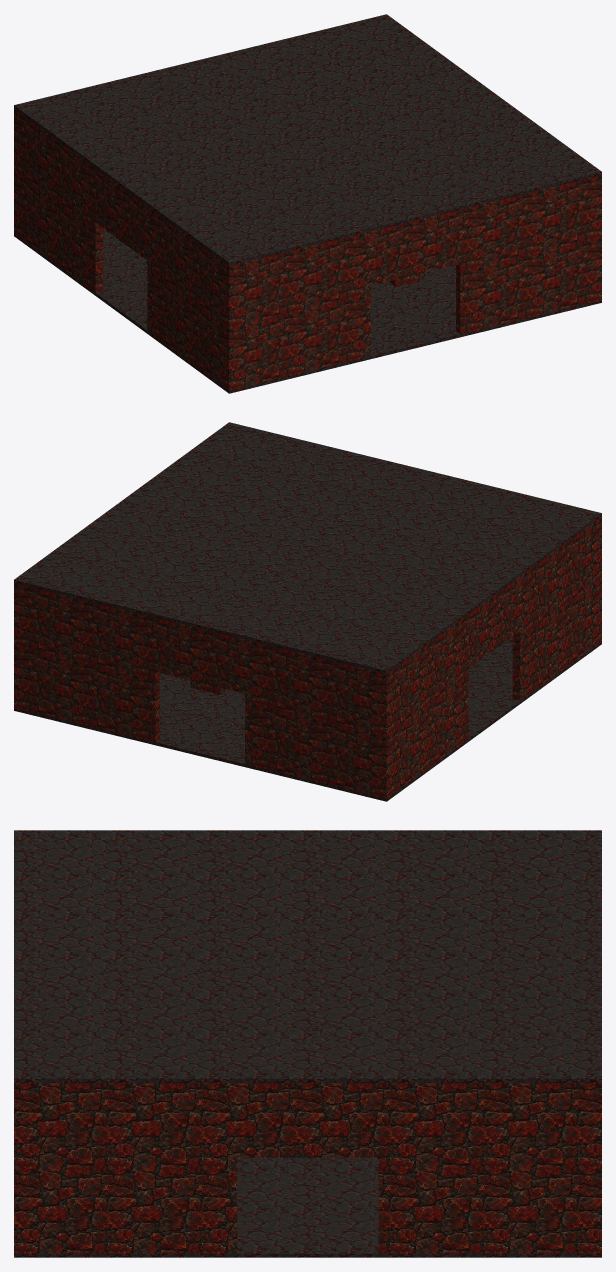
File: room_mini_pillars.glb
3 views of the same model, one above another, from view 1: azimuth 30°, elevation 25°; view 2: azimuth 150°, elevation 25°; view 3: azimuth 270°, elevation 25° (orthographic). The views are drawn at different scales.
Parts seen in each view (by area): view 1: Geo_Ceiling.004, Geo_Wall_S_L.004, Geo_Wall_S_R.004, Geo_Floor.004, Geo_Wall_W_R.003, Geo_Wall_W_L.003, Geo_Wall_S_Lintel.004, Geo_Wall_W_Lintel.003, Geo_Wall_N_L.004; view 2: Geo_Ceiling.004, Geo_Wall_N_L.004, Geo_Wall_N_R.004, Geo_Floor.004, Geo_Wall_W_L.003, Geo_Wall_W_R.003, Geo_Wall_N_Lintel.003, Geo_Wall_W_Lintel.003, Geo_Wall_S_L.004; view 3: Geo_Ceiling.004, Geo_Wall_E_L.003, Geo_Wall_E_R.003, Geo_Floor.004, Geo_Wall_E_Lintel.003, Geo_Wall_N_R.004, Geo_Wall_S_R.004.
Boxes of the visible parts, x1,y1,x2,y2 form: Geo_Ceiling.004: (14,14,601,265); Geo_Wall_S_L.004: (225,231,370,390); Geo_Wall_S_R.004: (456,175,601,333); Geo_Floor.004: (14,228,601,393); Geo_Wall_W_R.003: (18,111,103,292); Geo_Wall_W_L.003: (147,206,224,387); Geo_Wall_S_Lintel.004: (371,209,460,285); Geo_Wall_W_Lintel.003: (95,168,147,259); Geo_Wall_N_L.004: (14,108,18,235); Geo_Ceiling.004: (14,422,601,673); Geo_Wall_N_L.004: (245,639,390,798); Geo_Wall_N_R.004: (14,583,159,741); Geo_Floor.004: (14,636,601,801); Geo_Wall_W_L.003: (512,519,597,700); Geo_Wall_W_R.003: (391,614,468,795); Geo_Wall_N_Lintel.003: (155,617,244,693); Geo_Wall_W_Lintel.003: (468,576,520,667); Geo_Wall_S_L.004: (597,516,601,643); Geo_Ceiling.004: (14,830,601,1082); Geo_Wall_E_L.003: (25,1083,237,1253); Geo_Wall_E_R.003: (378,1083,590,1253); Geo_Floor.004: (14,1157,601,1257); Geo_Wall_E_Lintel.003: (237,1083,378,1157); Geo_Wall_N_R.004: (590,1083,601,1253); Geo_Wall_S_R.004: (14,1083,25,1253).
Size of the model in its own units: 25 by 8.4 by 25.
5 materials, 5 textured.
